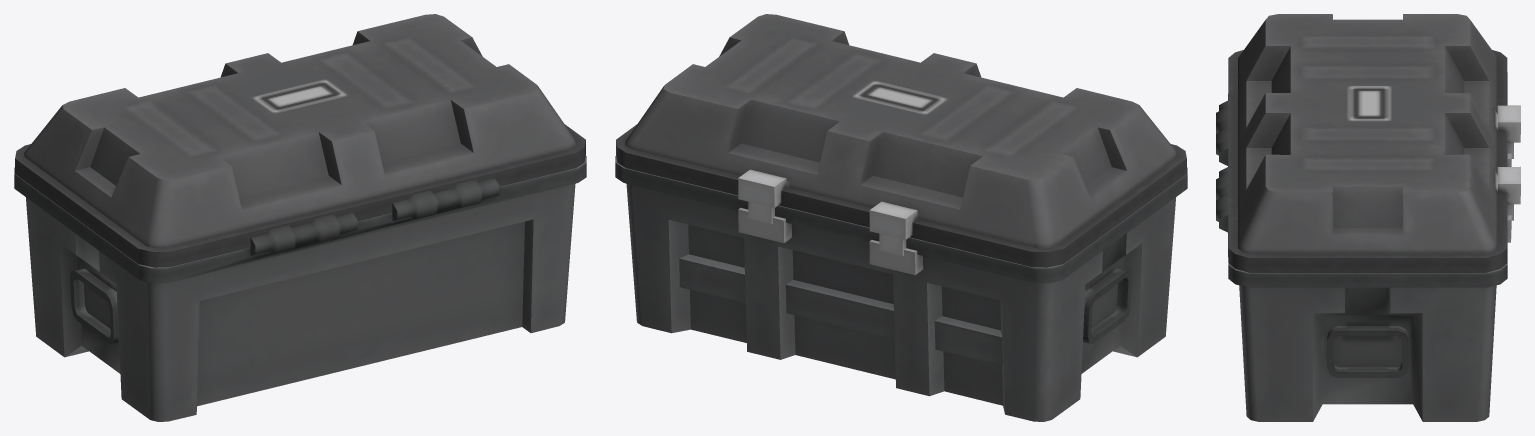
File: Prfb_Lootbox__2.fbx
3 views of the same model, side by side, from view 1: azimuth 30°, elevation 25°; view 2: azimuth 150°, elevation 25°; view 3: azimuth 270°, elevation 25° (orthographic). The views are drawn at different scales.
Visible parts, largest first — view 1: Mat_Lootbox_03; view 2: Mat_Lootbox_03; view 3: Mat_Lootbox_03.
Boxes of the visible parts, x1,y1,x2,y2 form: Mat_Lootbox_03: [14, 14, 586, 421]; Mat_Lootbox_03: [615, 14, 1187, 421]; Mat_Lootbox_03: [1216, 14, 1520, 421].
Bounding box in the file's own units: 1.52 × 0.7472 × 0.9318.
Materials: 1 (1 with a texture image).
